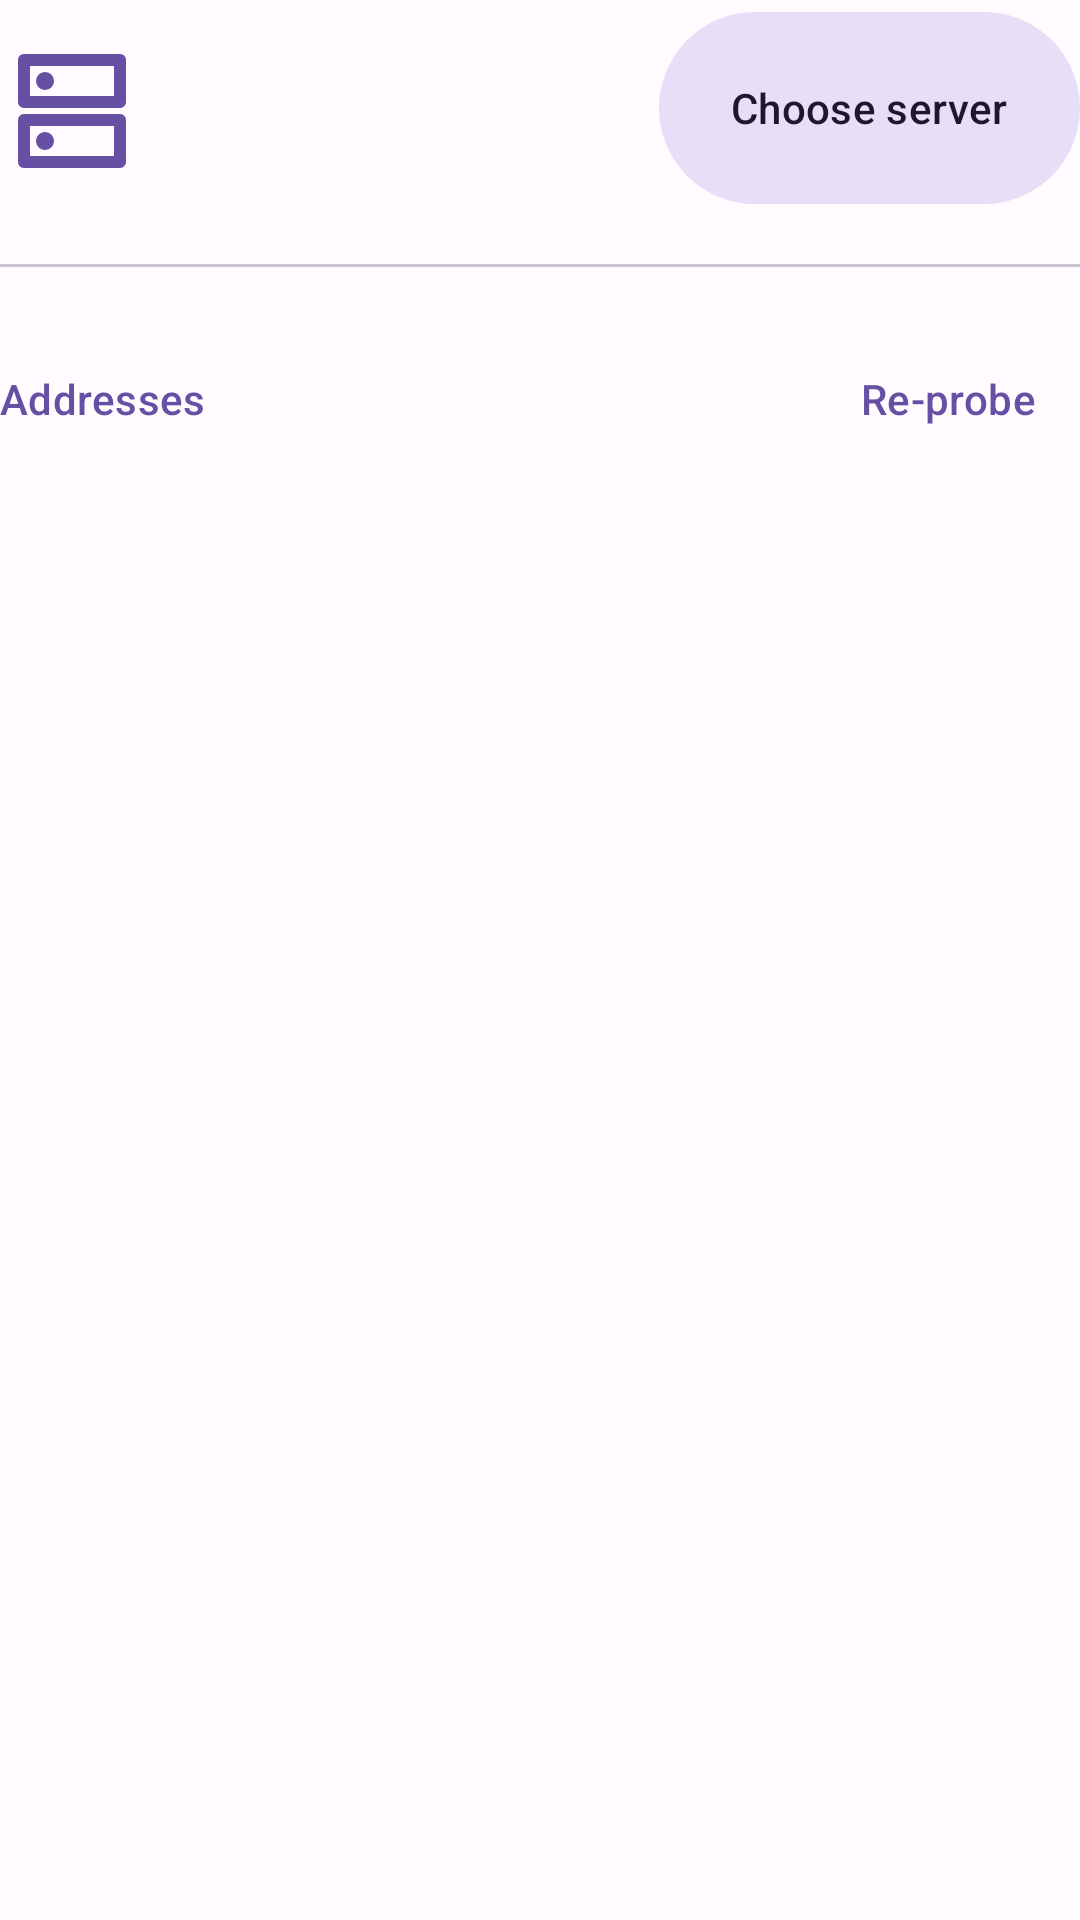

Point at icon controls on the screen. Image size 1080x1920, points as [x,y].
browse server: [72,111]
